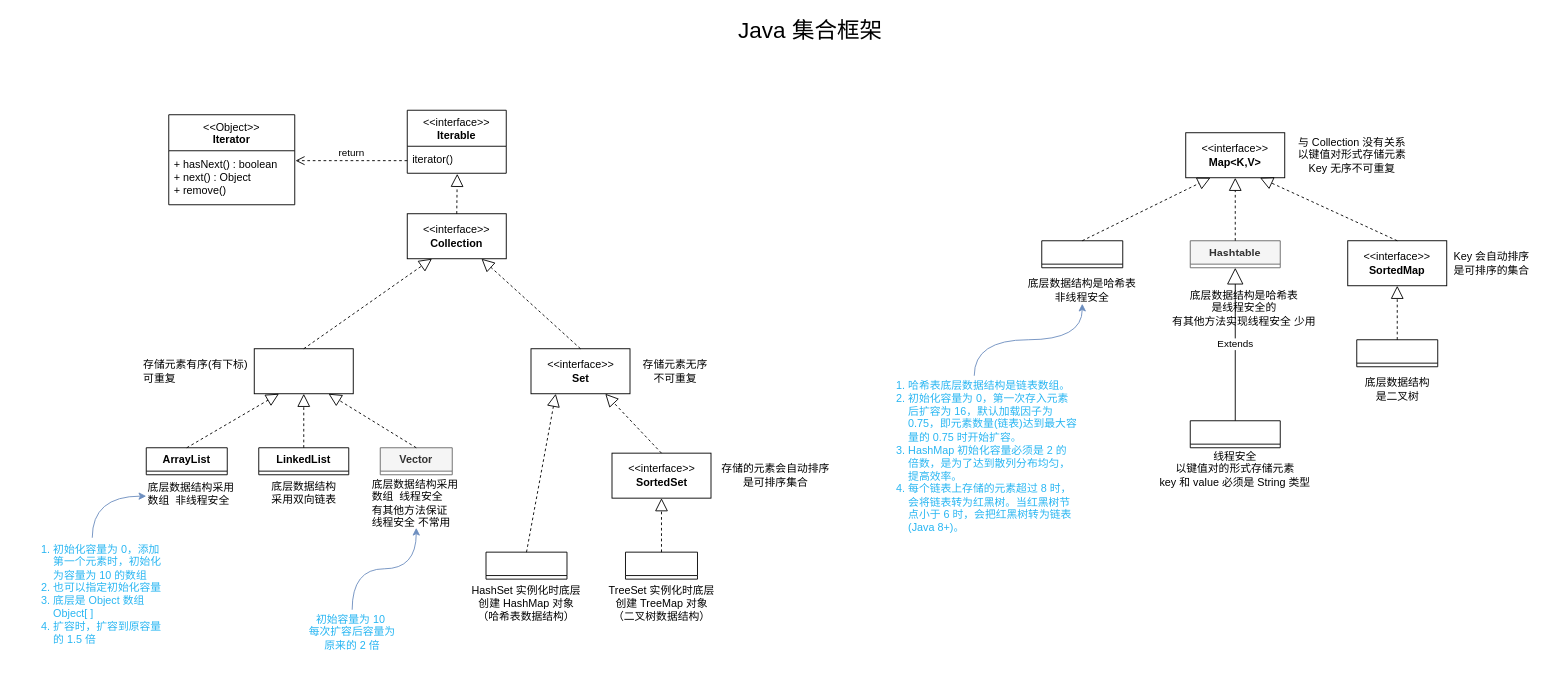
Image size: 1552x685. Some labels were removed from this diagram. The centre of each missing label's shape, as x and y in pixels:
<<interfac>> List: [303,371]
HashMap: [1082,254]
HashSet: [526,565]
Properties: [1234,434]
TreeMap: [1397,353]
TreeSet: [661,565]
